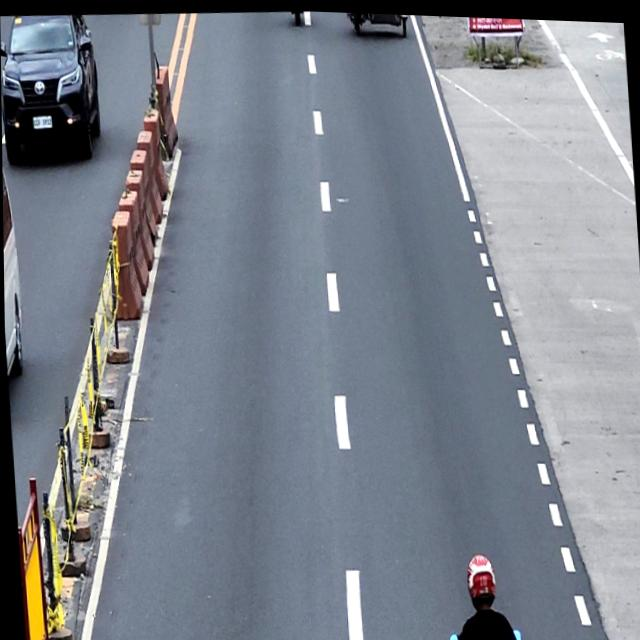Car: (0, 11, 103, 164), (2, 152, 24, 385)
License-Plate: (31, 114, 53, 129)
